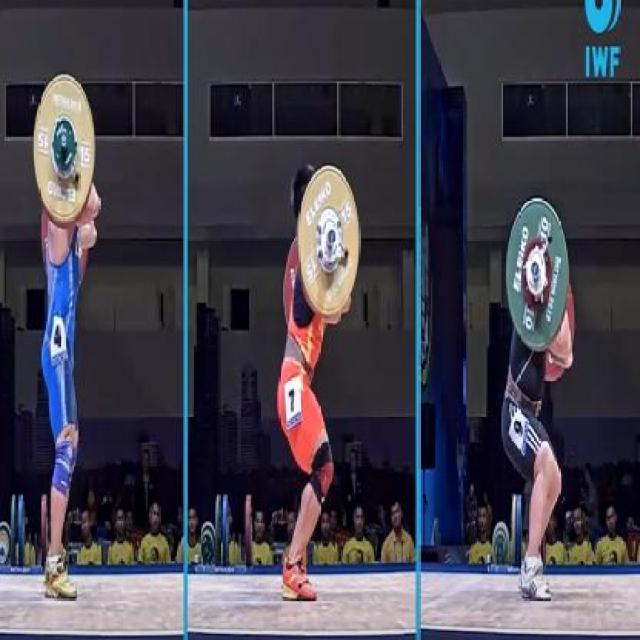barbell: (290, 155, 366, 324), (505, 191, 574, 360), (33, 70, 102, 237)
